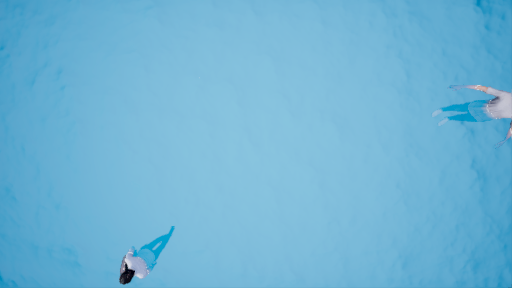person: (425, 76, 512, 145), (107, 218, 182, 286)
